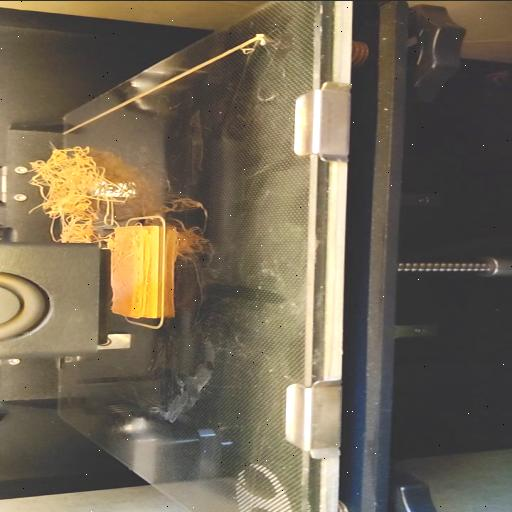spaghetti: (27, 144, 120, 242)
